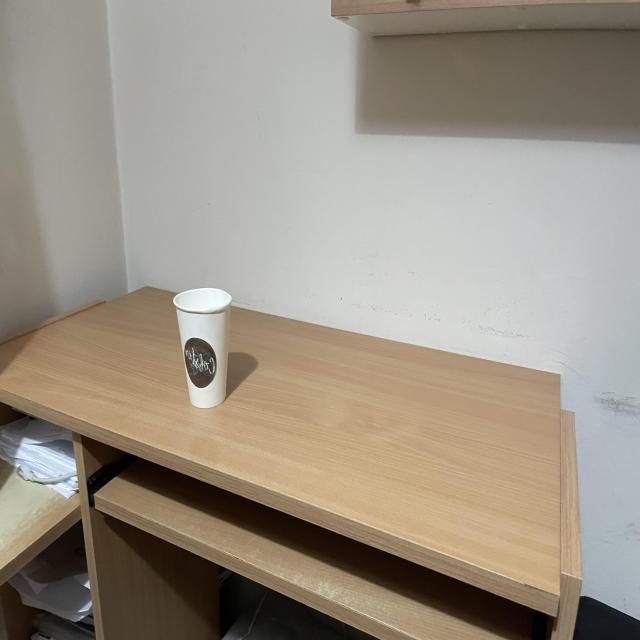big: (171, 284, 235, 410)
